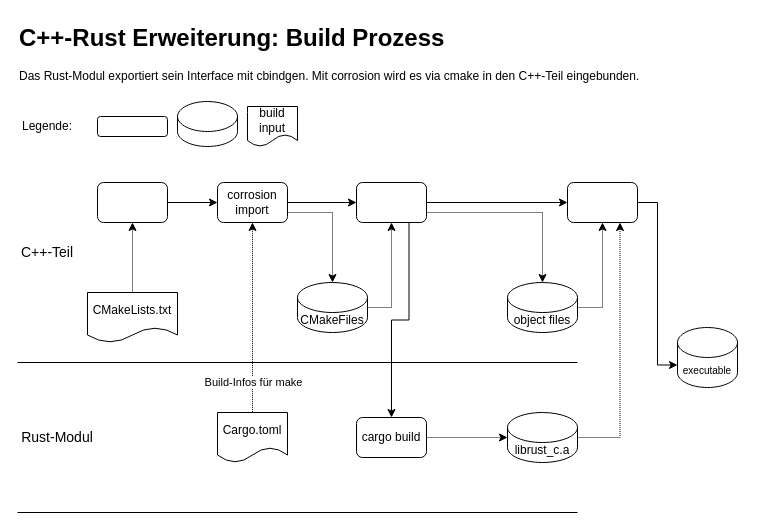
This 765x531 diagram has some shape labels left out. Here are the shapes that lost their labels. From the top down, the centre of each, then its label:
At (132,126): "build step".
At (207,123): "build result".
At (132,202): "cmake ..".
At (391,202): "make".
At (602,202): "linker".
